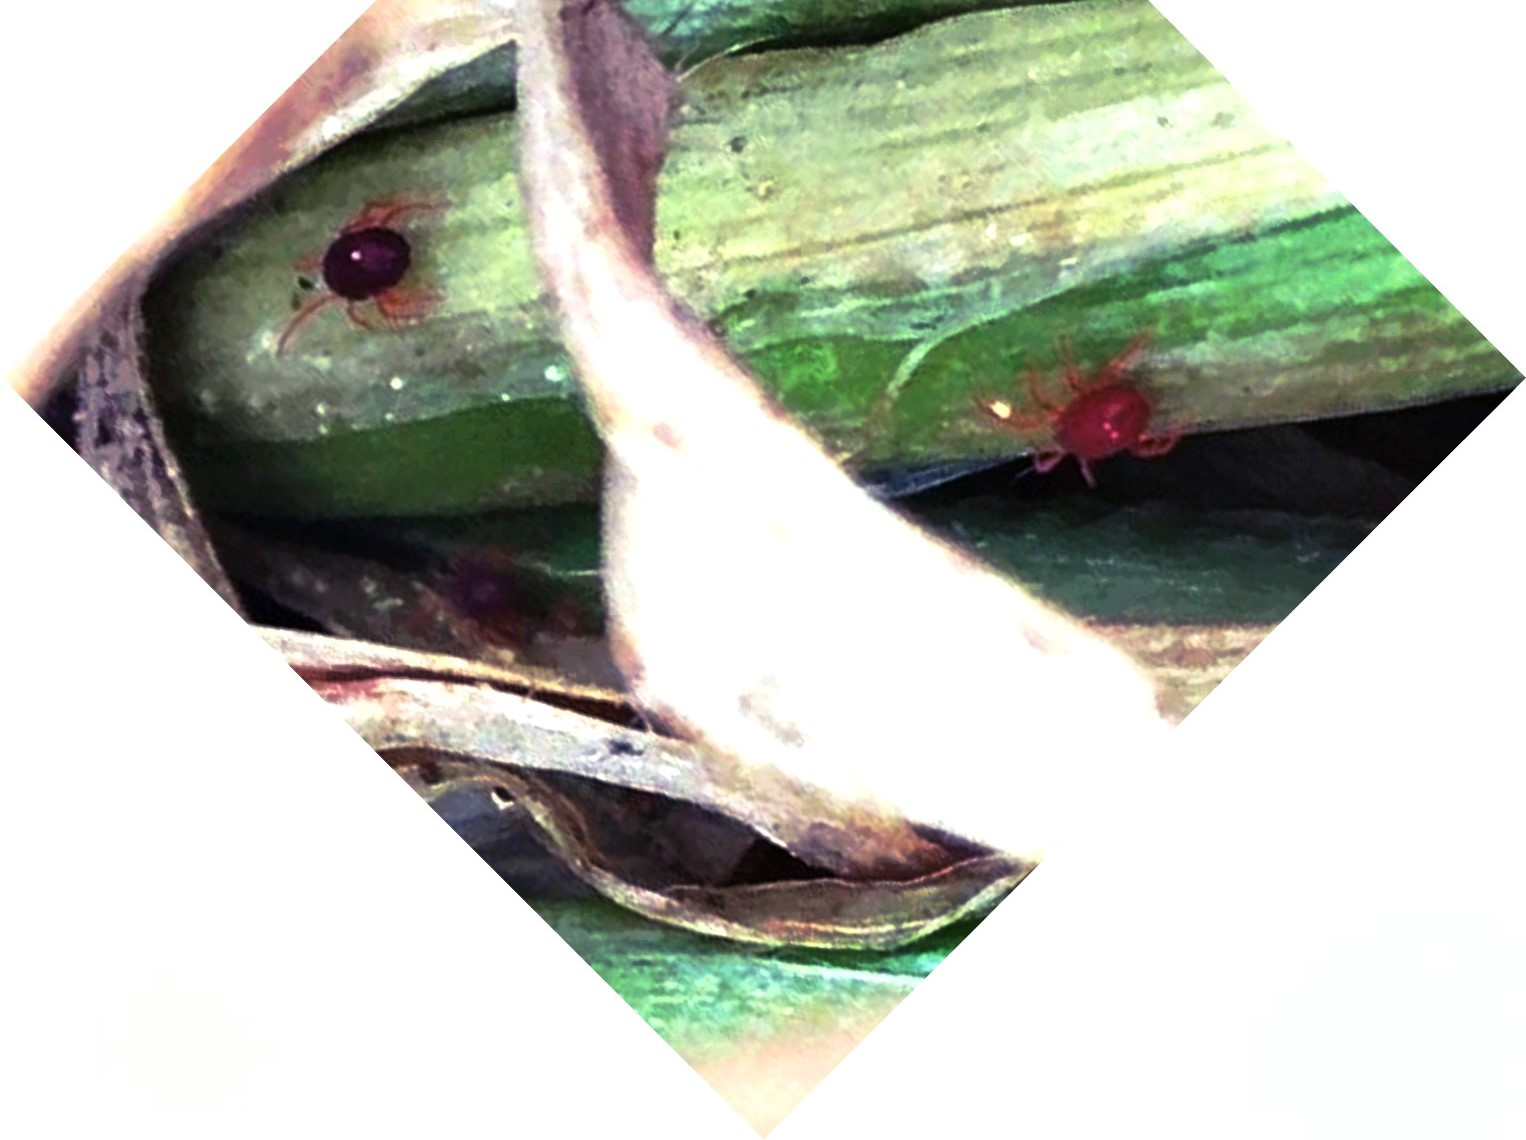Wheat Red Spider: (940, 309, 1197, 495)
